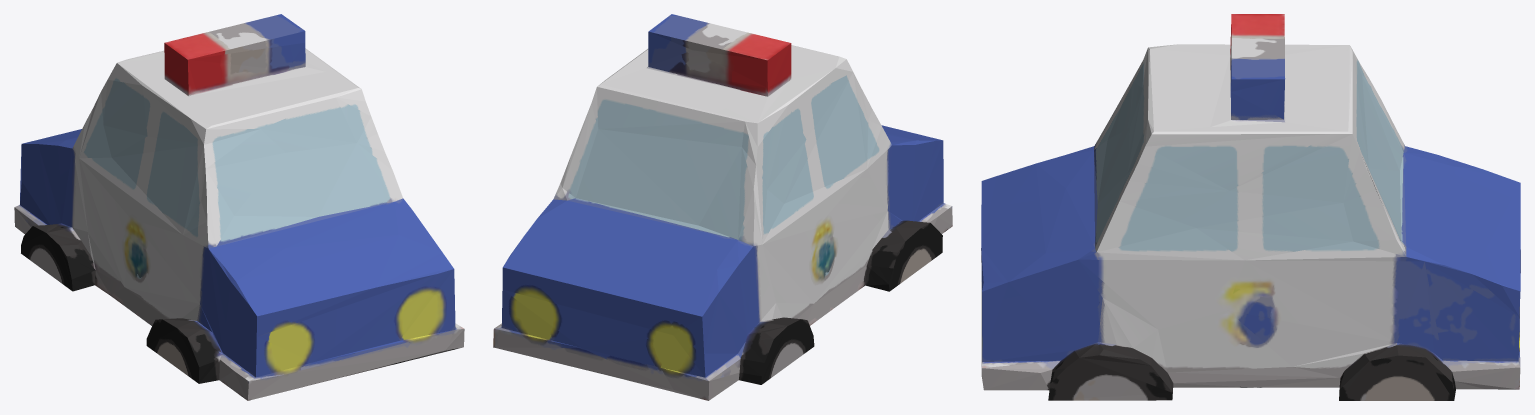
The picture shows the model from 3 angles, left to right: view 1: azimuth 30°, elevation 25°; view 2: azimuth 150°, elevation 25°; view 3: azimuth 270°, elevation 25°; orthographic projection. The views are drawn at different scales.
Visible parts, largest first — view 1: Simplified; view 2: Simplified; view 3: Simplified.
Boxes of the visible parts, x1=… form: Simplified: x1=14, y1=14, x2=464, y2=400; Simplified: x1=493, y1=14, x2=952, y2=400; Simplified: x1=981, y1=14, x2=1520, y2=400.
Bounding box in the file's own units: 0.2149 × 0.1994 × 0.3443.
Materials: 1 (1 with a texture image).
